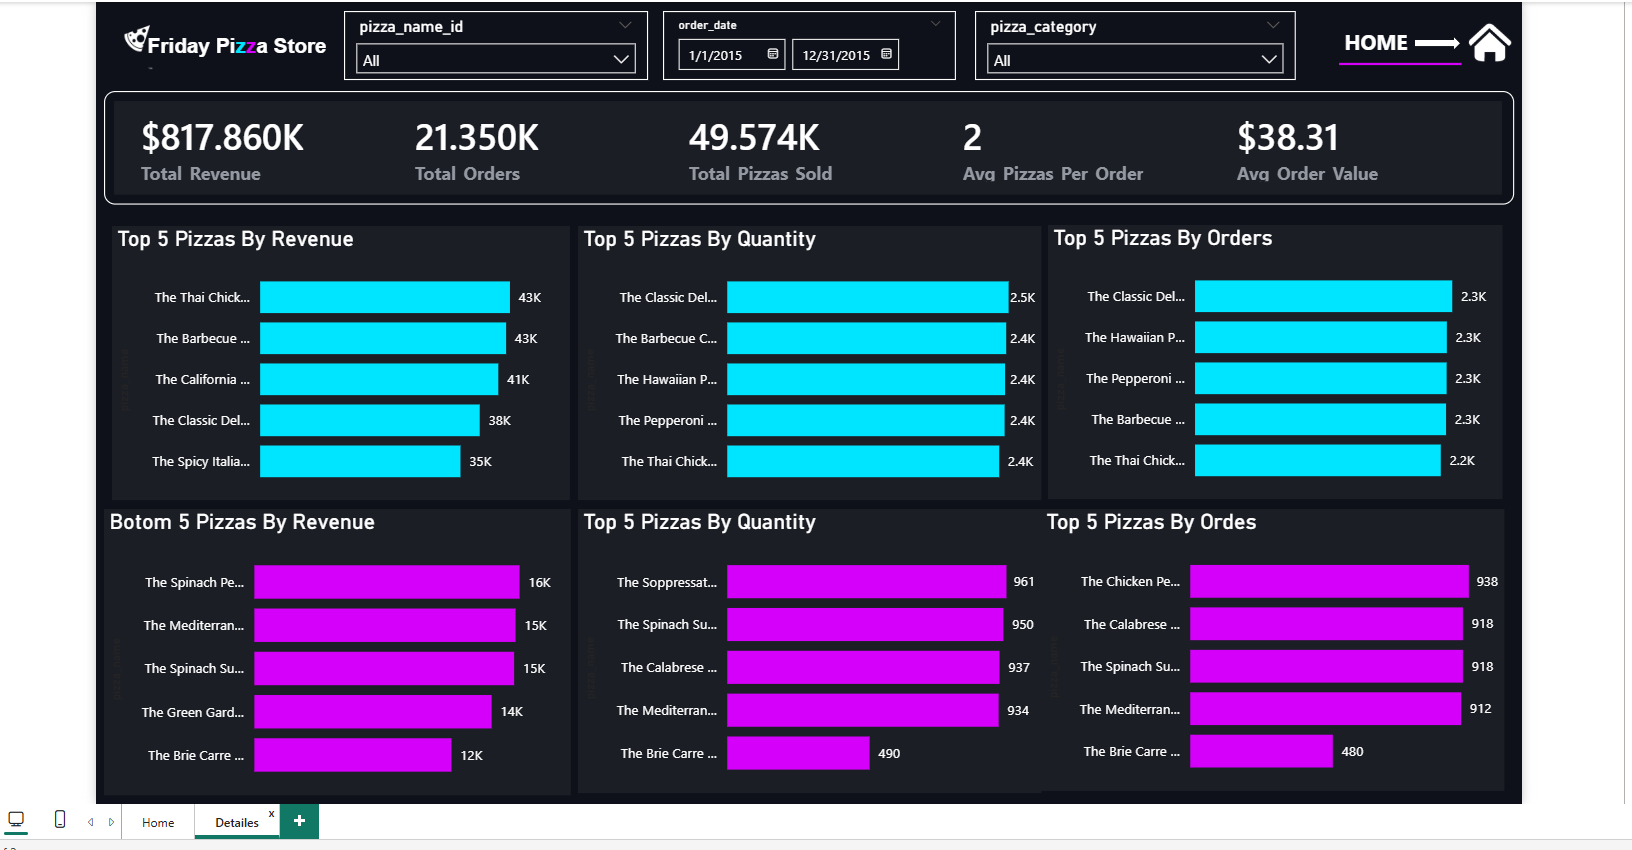

This screenshot's page, from the dashboard's own definition file:
{"tool":"powerbi","page":{"name":"Detailes","canvas":[1280,720],"ordinal":1},"visuals":[{"type":"textbox","box":[41.6,23.3,210.8,56.8],"z":0},{"type":"image","box":[0,8.1,74,52.7],"z":1000},{"type":"cardVisual","fields":{"Data":["pizza_sales (2).Tota_Revenue","pizza_sales (2).Total_Orders","pizza_sales (2).Total_Pizzas_Sold","pizza_sales (2).Avg_Pizzas_Per_Order","pizza_sales (2).Avg_Order_Value"]},"box":[7.1,80.1,1265.8,102.4],"z":2000},{"type":"slicer","fields":{"Values":["pizza_sales (2).pizza_name_id"]},"box":[223,8.1,272.6,61.8],"z":3000},{"type":"slicer","fields":{"Values":["pizza_sales (2).order_date"]},"box":[508.8,8.1,263.5,61.8],"z":4000},{"type":"slicer","fields":{"Values":["pizza_sales (2).pizza_category"]},"box":[789.5,8.1,287.8,61.8],"z":5000},{"type":"shape","box":[1115.8,12.2,110.5,86.1],"z":6000},{"type":"textbox","box":[1115.8,18.2,67.9,37.5],"z":7000},{"type":"shape","box":[1183.7,31.4,40.5,11.1],"z":8000},{"type":"image","box":[1224.3,18.2,53.7,37.5],"z":9000},{"type":"clusteredBarChart","title":"Top 5 Pizzas By Revenue","fields":{"Y":["Sum(pizza_sales (2).total_price)"],"Category":["pizza_sales (2).pizza_name"]},"box":[14.2,200.7,411.5,246.3],"z":10000},{"type":"clusteredBarChart","title":"Botom 5 Pizzas By Revenue","fields":{"Y":["Sum(pizza_sales (2).total_price)"],"Category":["pizza_sales (2).pizza_name"]},"box":[7.1,455,418.6,257.4],"z":11000},{"type":"clusteredBarChart","title":"Top 5 Pizzas By Quantity","fields":{"Category":["pizza_sales (2).pizza_name"],"Y":["Sum(pizza_sales (2).quantity)"]},"box":[432.7,200.7,415.5,246.3],"z":12000},{"type":"clusteredBarChart","title":"Top 5 Pizzas By Quantity","fields":{"Category":["pizza_sales (2).pizza_name"],"Y":["Sum(pizza_sales (2).quantity)"]},"box":[432.7,455,415.5,255.4],"z":13000},{"type":"clusteredBarChart","title":"Top 5 Pizzas By Orders","fields":{"Category":["pizza_sales (2).pizza_name"],"Y":["Count(pizza_sales (2).order_id)"]},"box":[855.1,200.4,408.4,246.3],"z":14000},{"type":"clusteredBarChart","title":"Top 5 Pizzas By Ordes","fields":{"Category":["pizza_sales (2).pizza_name"],"Y":["Count(pizza_sales (2).order_id)"]},"box":[848.3,455,415.5,253.4],"z":15000}]}

Visuals, with their boxes on the page's 1280x720 design canvas (x1, y1, x2, y2). These are canvas units, not pixel positions in the 1632x850 screenshot, which may show the page scaled, cropped or inside an application window:
textbox: <bbox>42, 23, 252, 80</bbox>
image: <bbox>0, 8, 74, 61</bbox>
cardVisual - pizza_sales (2).Tota_Revenue x pizza_sales (2).Total_Orders: <bbox>7, 80, 1273, 182</bbox>
slicer - pizza_sales (2).pizza_name_id: <bbox>223, 8, 496, 70</bbox>
slicer - pizza_sales (2).order_date: <bbox>509, 8, 772, 70</bbox>
slicer - pizza_sales (2).pizza_category: <bbox>790, 8, 1077, 70</bbox>
shape: <bbox>1116, 12, 1226, 98</bbox>
textbox: <bbox>1116, 18, 1184, 56</bbox>
shape: <bbox>1184, 31, 1224, 42</bbox>
image: <bbox>1224, 18, 1278, 56</bbox>
"Top 5 Pizzas By Revenue" clusteredBarChart: <bbox>14, 201, 426, 447</bbox>
"Botom 5 Pizzas By Revenue" clusteredBarChart: <bbox>7, 455, 426, 712</bbox>
"Top 5 Pizzas By Quantity" clusteredBarChart: <bbox>433, 201, 848, 447</bbox>
"Top 5 Pizzas By Quantity" clusteredBarChart: <bbox>433, 455, 848, 710</bbox>
"Top 5 Pizzas By Orders" clusteredBarChart: <bbox>855, 200, 1264, 447</bbox>
"Top 5 Pizzas By Ordes" clusteredBarChart: <bbox>848, 455, 1264, 708</bbox>
